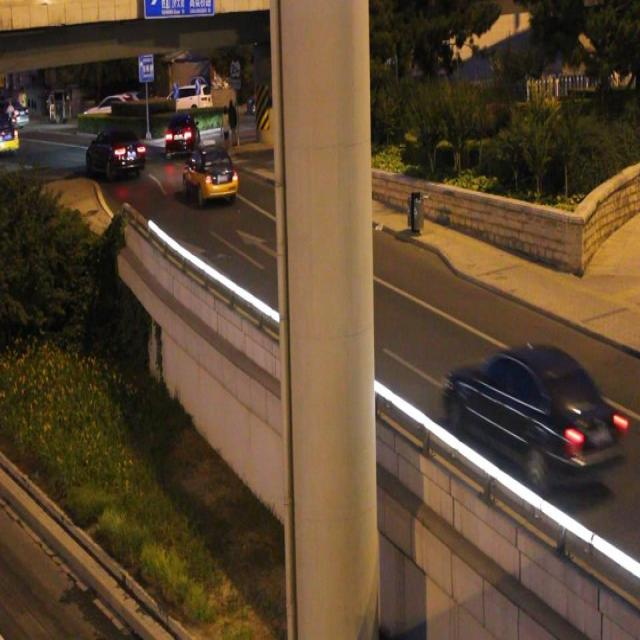car: (443, 342, 624, 488), (181, 140, 238, 203)
